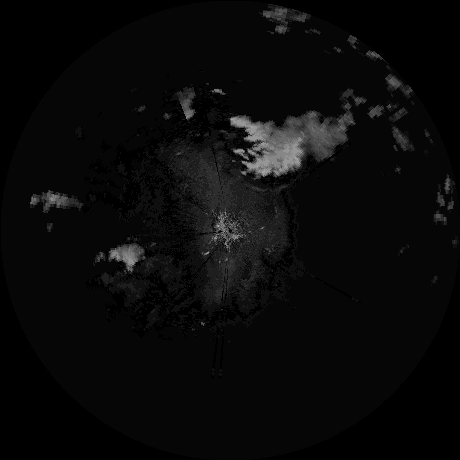frontgust: (241, 176, 289, 194)
